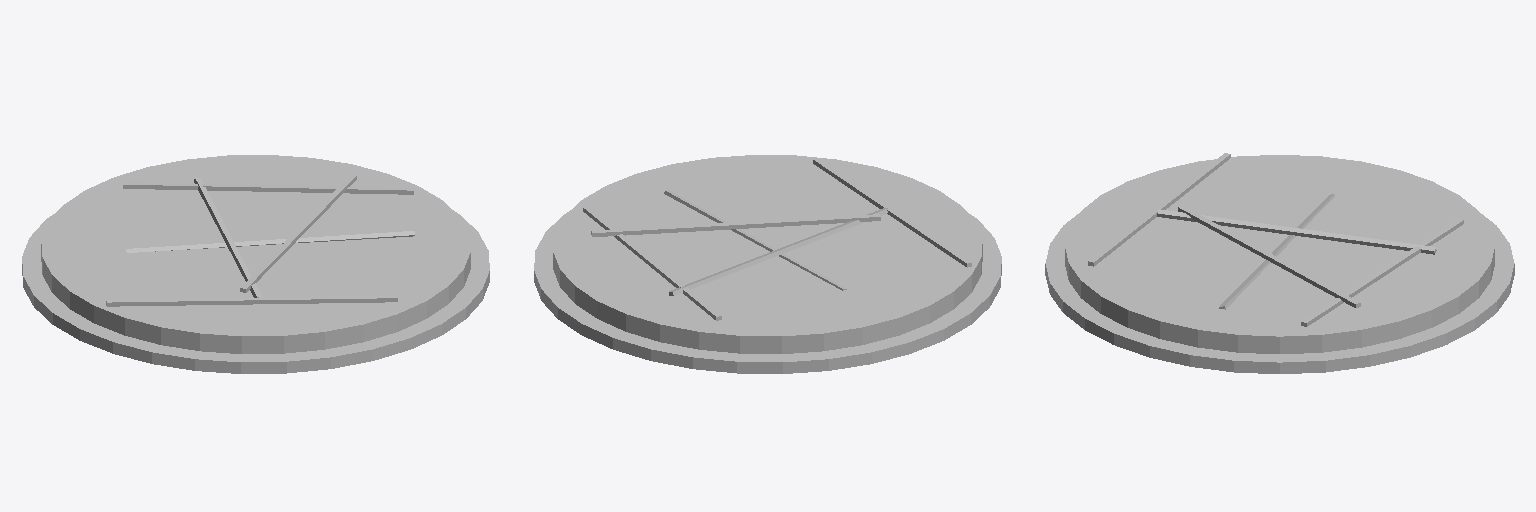
File: itspawn.obj
3 views of the same model, side by side, from view 1: azimuth 30°, elevation 25°; view 2: azimuth 150°, elevation 25°; view 3: azimuth 270°, elevation 25° (orthographic).
Size of the model in its own units: 1.91 by 0.173 by 1.91.